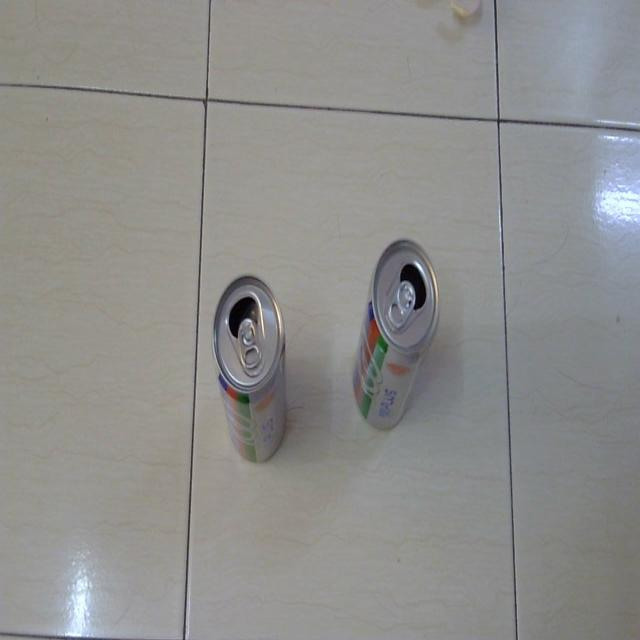metal_standrotation: (347, 226, 447, 442), (208, 266, 296, 473)
